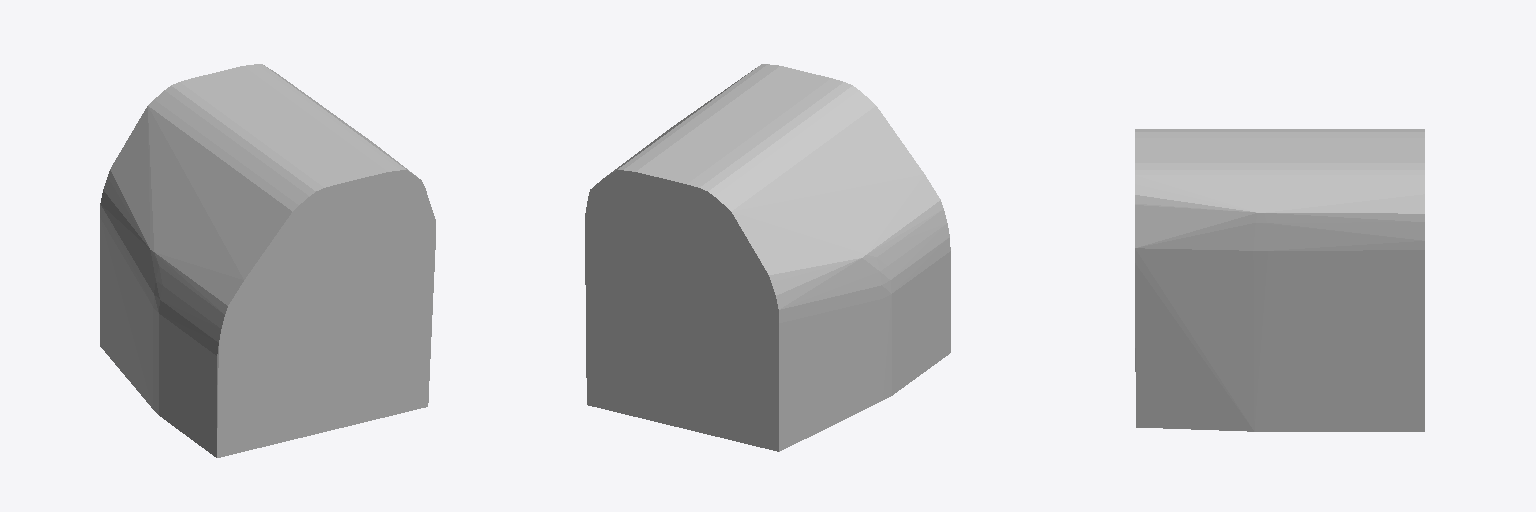
The model's file is Toaster_24_collision_12.obj.
The picture shows the model from 3 angles: view 1: azimuth 30°, elevation 25°; view 2: azimuth 150°, elevation 25°; view 3: azimuth 270°, elevation 25°; orthographic projection.
Bounding box in the file's own units: 0.0627 × 0.0661 × 0.0709.